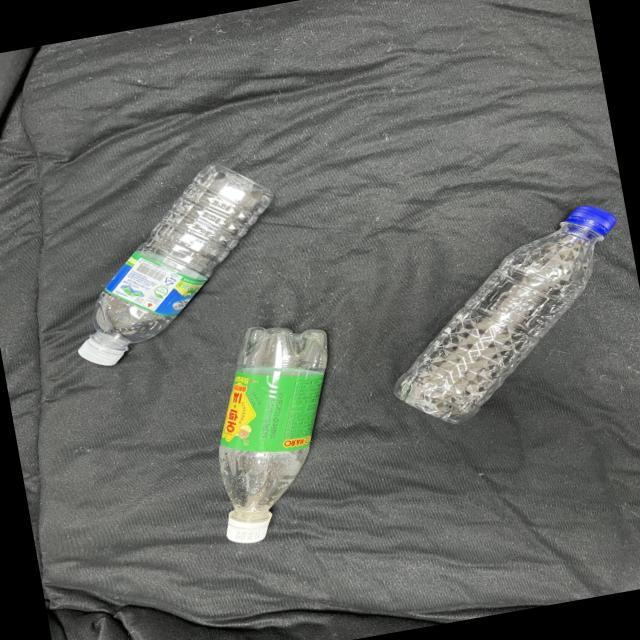good: (378, 190, 627, 440), (58, 148, 290, 380), (201, 318, 338, 549)
